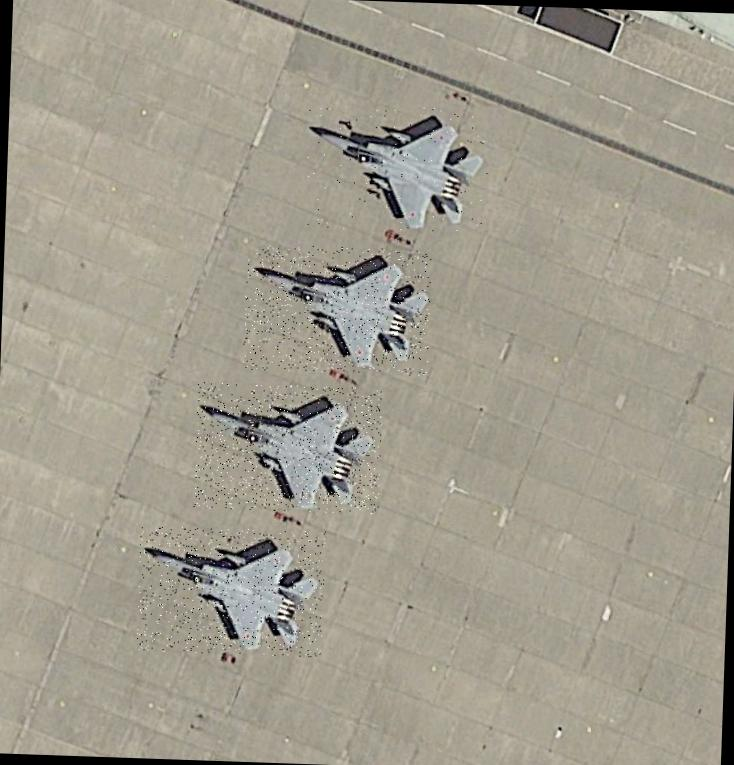A13: (302, 103, 492, 235), (193, 382, 383, 514), (136, 524, 326, 656), (243, 243, 432, 375)
